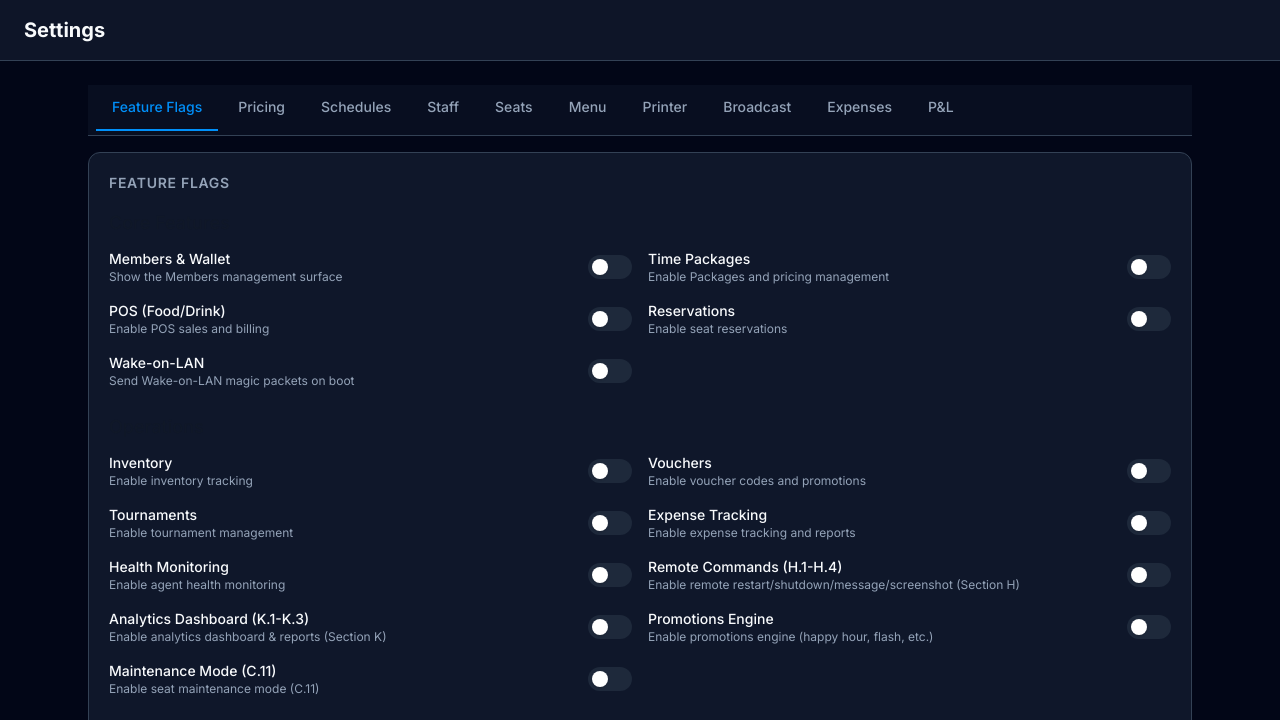
Test: SettingsPage › switches to Staff tab when clicking the Staff tab button
Note: Click the Staff tab
What coordinates should you click on to do the following:
click the tab "Staff"
I would click on:
 (443, 108)
Its box is [411, 85, 475, 131].
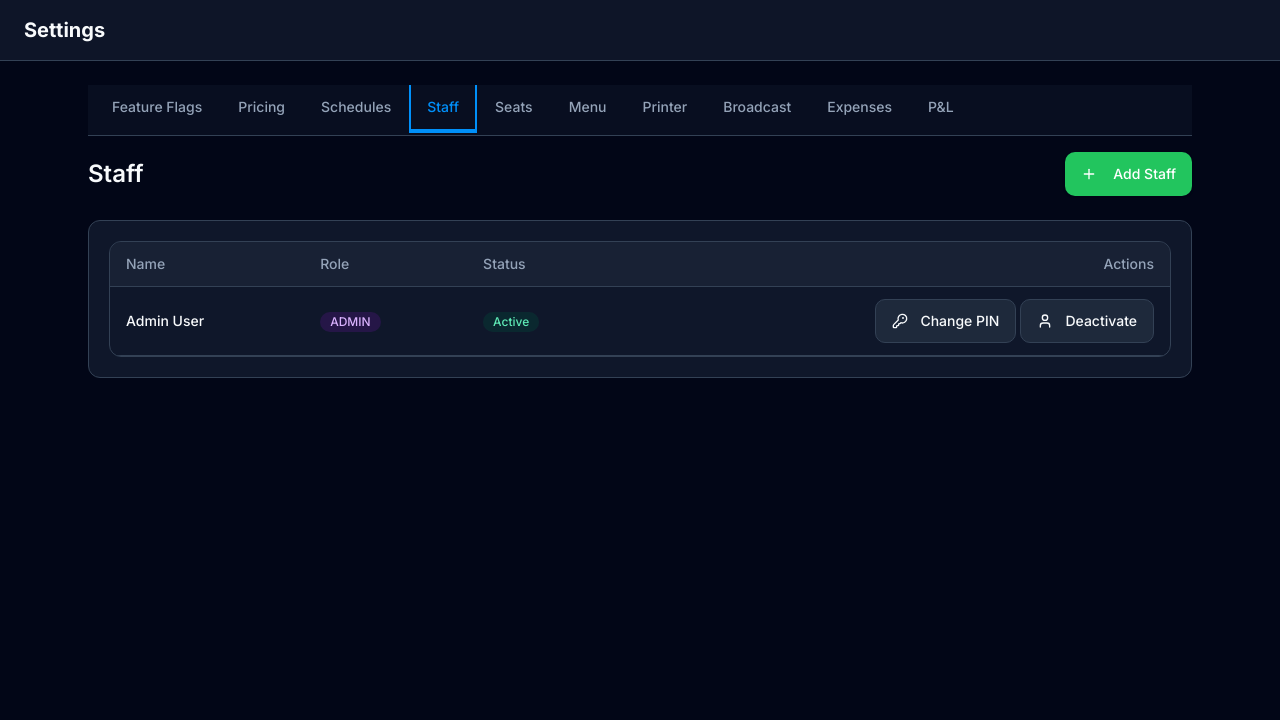
Result: the text "Admin User" is shown at [110, 286, 304, 356]
Result: the text "ADMIN" is shown at [320, 312, 381, 332]
Result: the text "Active" is shown at [483, 312, 539, 332]
